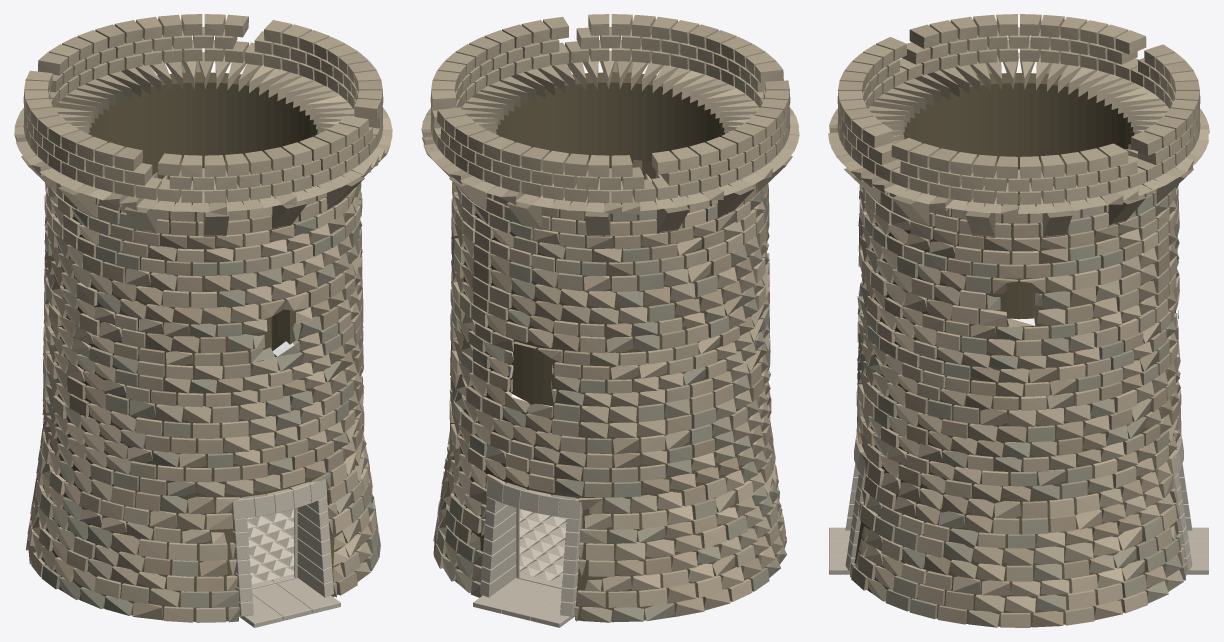
Rendered from Tour_V5_LOD2.fbx.
The picture shows the model from 3 angles, left to right: view 1: azimuth 30°, elevation 25°; view 2: azimuth 150°, elevation 25°; view 3: azimuth 270°, elevation 25°; orthographic projection.
Visible parts, largest first — view 1: V5_Distance2_V5_Fut_Granit_Exterieur, V5_Distance2_V5_Couronnement_Consoles, V5_Distance2_V5_Chaux_Coeur_Murs, V5_Distance2_V5_Embrasures_Linteaux_Seuils, V5_Distance2_V5_Dalles_Patine; view 2: V5_Distance2_V5_Fut_Granit_Exterieur, V5_Distance2_V5_Couronnement_Consoles, V5_Distance2_V5_Chaux_Coeur_Murs, V5_Distance2_V5_Embrasures_Linteaux_Seuils, V5_Distance2_V5_Dalles_Patine; view 3: V5_Distance2_V5_Fut_Granit_Exterieur, V5_Distance2_V5_Couronnement_Consoles, V5_Distance2_V5_Chaux_Coeur_Murs, V5_Distance2_V5_Embrasures_Linteaux_Seuils.
Boxes of the visible parts, x1,y1,x2,y2 form: V5_Distance2_V5_Fut_Granit_Exterieur: (26,182,380,622); V5_Distance2_V5_Couronnement_Consoles: (14,14,392,236); V5_Distance2_V5_Chaux_Coeur_Murs: (34,72,367,621); V5_Distance2_V5_Embrasures_Linteaux_Seuils: (231,479,340,627); V5_Distance2_V5_Dalles_Patine: (247,509,294,584); V5_Distance2_V5_Fut_Granit_Exterieur: (433,182,786,622); V5_Distance2_V5_Couronnement_Consoles: (421,14,799,236); V5_Distance2_V5_Chaux_Coeur_Murs: (443,72,776,621); V5_Distance2_V5_Embrasures_Linteaux_Seuils: (473,479,582,627); V5_Distance2_V5_Dalles_Patine: (519,509,566,584); V5_Distance2_V5_Fut_Granit_Exterieur: (850,184,1187,627); V5_Distance2_V5_Couronnement_Consoles: (828,14,1209,237); V5_Distance2_V5_Chaux_Coeur_Murs: (854,73,1180,626); V5_Distance2_V5_Embrasures_Linteaux_Seuils: (829,436,1208,574).
Bounding box in the file's own units: 904 × 1214 × 904.
